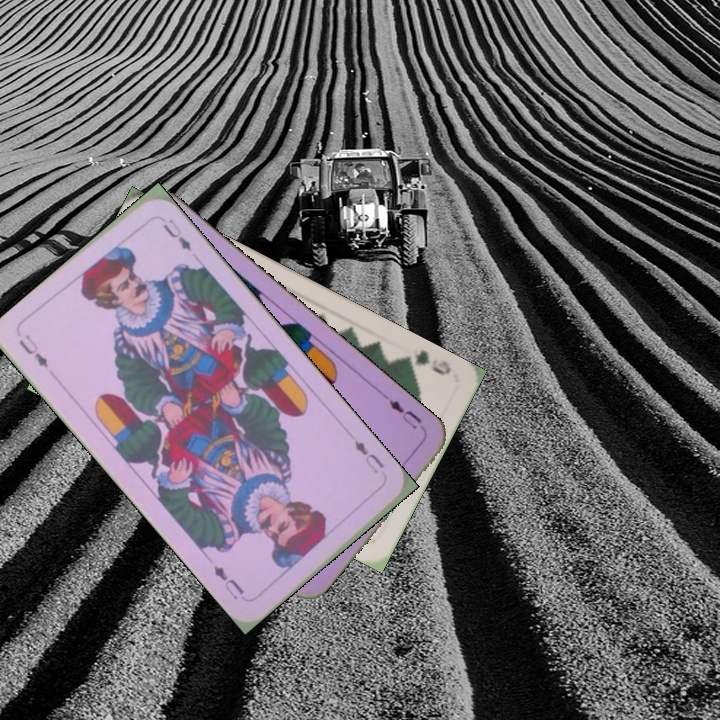EU: (380, 391, 429, 435), (14, 329, 51, 371), (350, 436, 387, 477)
G9: (397, 345, 454, 378)
